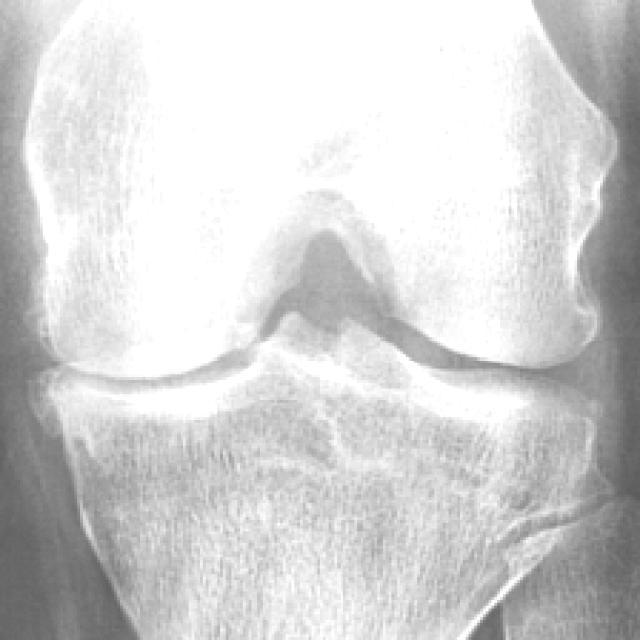femur: (26, 1, 618, 380)
tibia: (26, 310, 611, 640)
